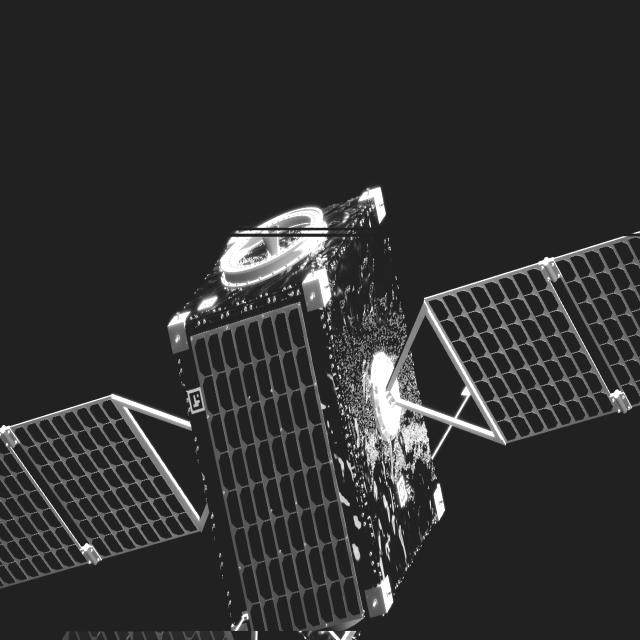medium_debris: (0, 191, 640, 640)
